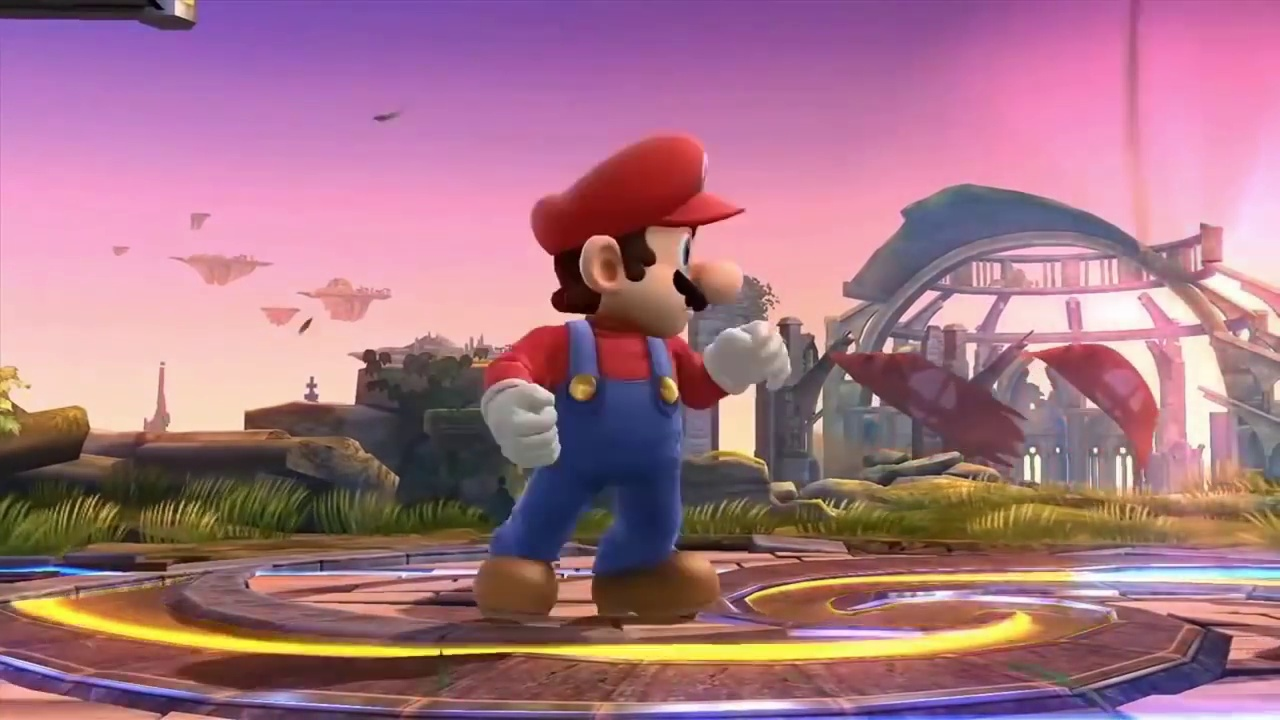Mario: (479, 132, 791, 619)
